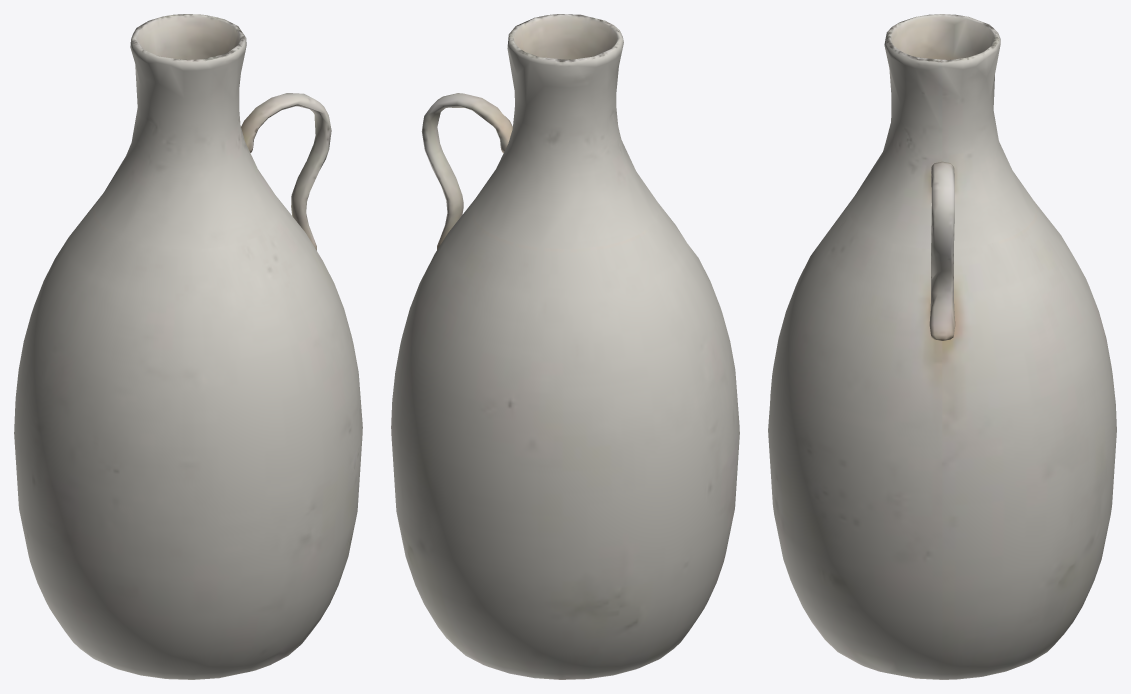
The model's file is ceramic_vase_04.glb.
3 views of the same model, side by side, from view 1: azimuth 30°, elevation 25°; view 2: azimuth 150°, elevation 25°; view 3: azimuth 270°, elevation 25° (orthographic).
Parts seen in each view (by area): view 1: ceramic_vase_04; view 2: ceramic_vase_04; view 3: ceramic_vase_04.
Part boxes in pixels (x1,y1,x2,y2): ceramic_vase_04: (14, 14, 362, 679); ceramic_vase_04: (391, 14, 739, 679); ceramic_vase_04: (768, 14, 1116, 679).
Bounding box in the file's own units: 0.1811 × 0.3419 × 0.1811.
Materials: 1 (1 with a texture image).
